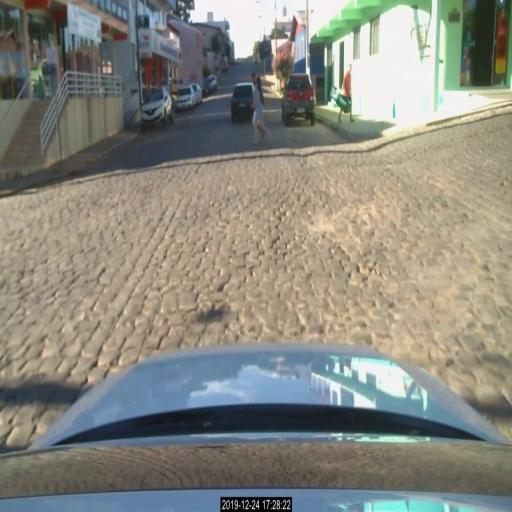Pothole: (310, 199, 400, 253)
